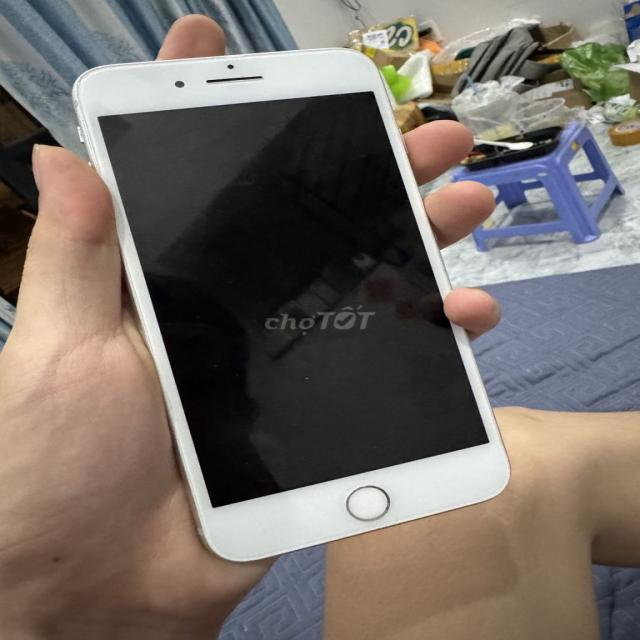scratch: (78, 62, 108, 84)
